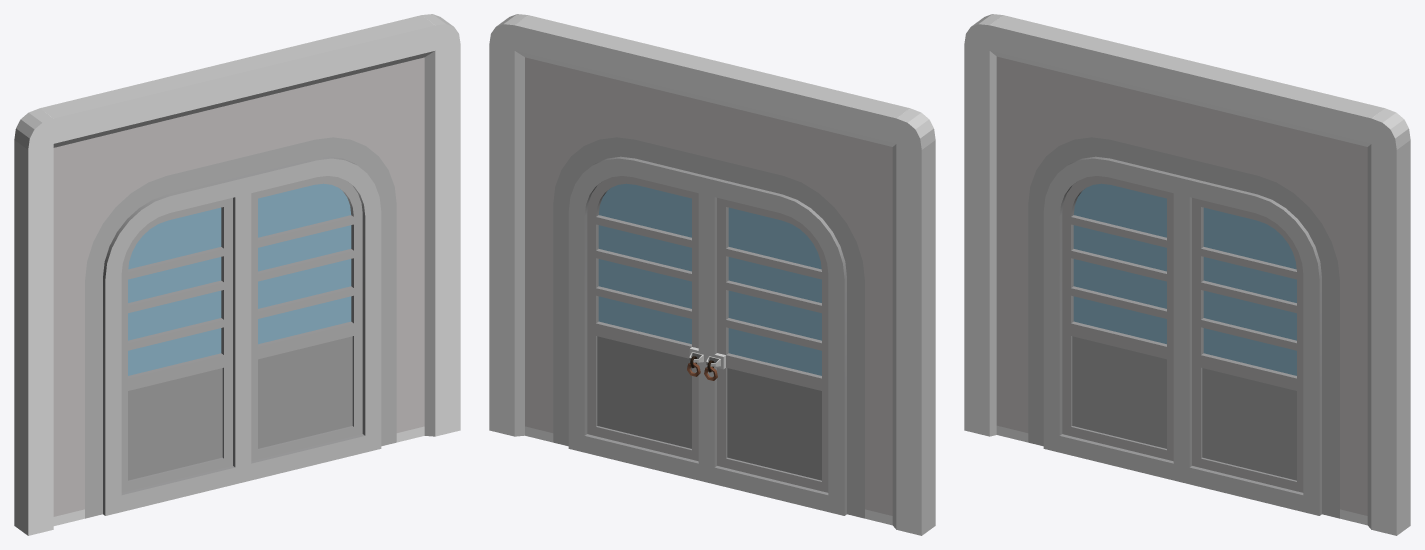
The model's file is door.fbx.
The picture shows the model from 3 angles, left to right: view 1: azimuth 30°, elevation 25°; view 2: azimuth 150°, elevation 25°; view 3: azimuth 330°, elevation 25°; orthographic projection.
Parts seen in each view (by area): view 1: door_base, right_door, left_door; view 2: door_base, right_door, left_door; view 3: door_base, left_door, right_door.
Boxes of the visible parts, x1=… form: door_base: x1=14, y1=14, x2=460, y2=535; right_door: x1=103, y1=176, x2=243, y2=515; left_door: x1=241, y1=156, x2=381, y2=482; door_base: x1=489, y1=14, x2=935, y2=535; right_door: x1=704, y1=176, x2=846, y2=515; left_door: x1=568, y1=156, x2=708, y2=482; door_base: x1=964, y1=14, x2=1410, y2=535; left_door: x1=1181, y1=176, x2=1321, y2=515; right_door: x1=1043, y1=156, x2=1183, y2=482.
Bounding box in the file's own units: 1208 × 1098 × 94.69.
2 materials, 1 textured.
